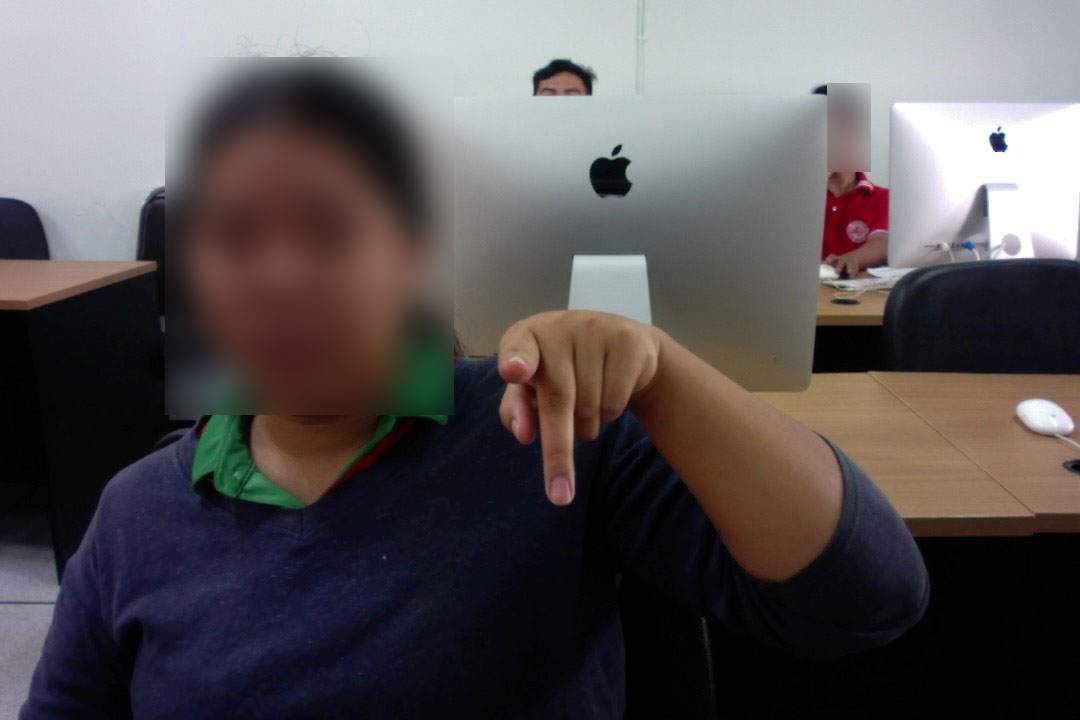por: (476, 306, 666, 513)
